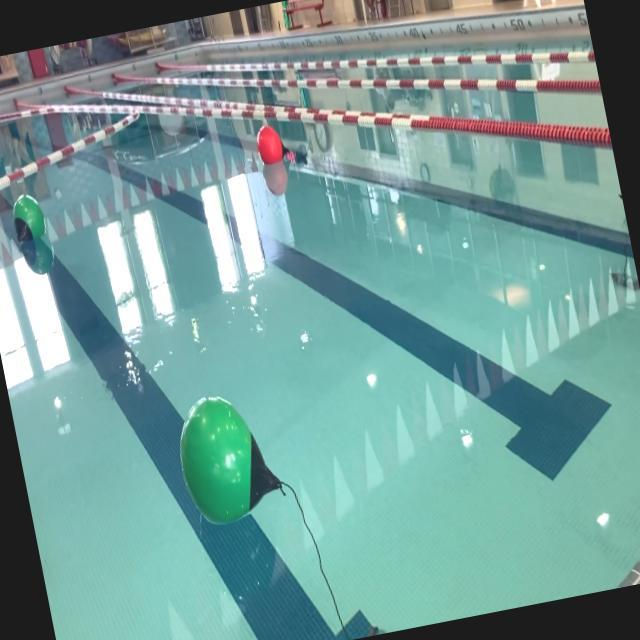buoy: (168, 387, 289, 532), (8, 190, 49, 248), (254, 121, 294, 168)
